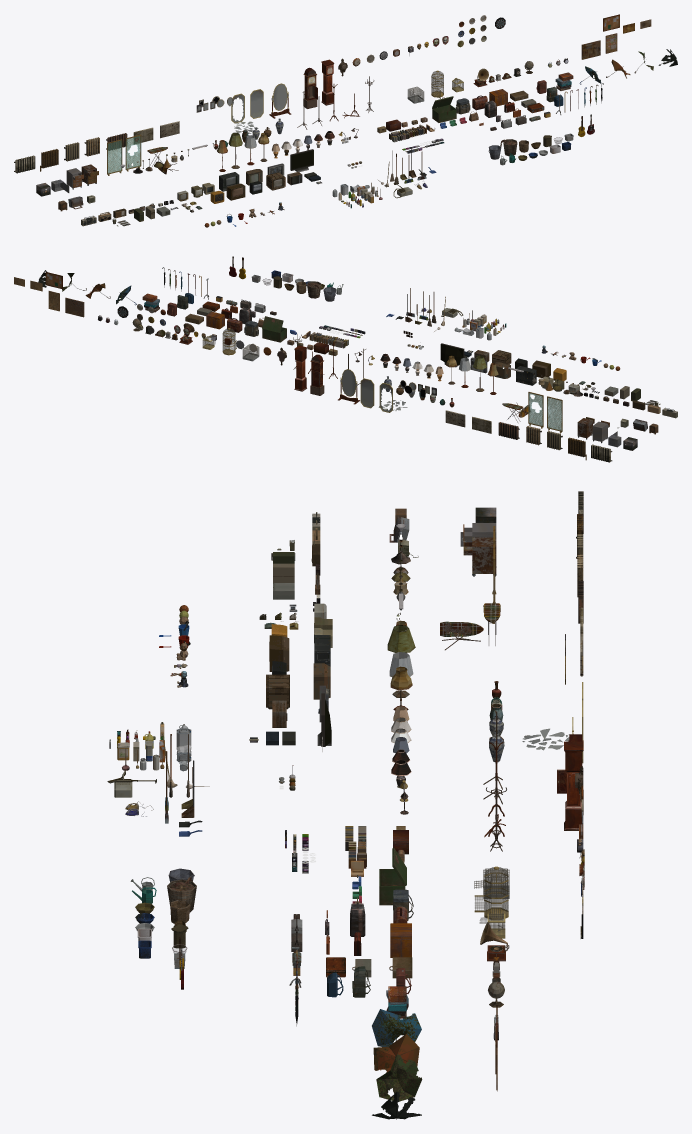
File: psx-low-poly-home-interior-props-pack.glb
3 views of the same model, one above another, from view 1: azimuth 30°, elevation 25°; view 2: azimuth 150°, elevation 25°; view 3: azimuth 270°, elevation 25° (orthographic). The views are drawn at different scales.
Visible parts, largest first — view 1: wooden_folding_screen, old_wooden_ligth_grandfather_clock, old_wooden_dark_grandfather_clock, broken_wooden_folding_screen, tv_08, wall_mirror_06, chest_05, mirror_01, wall_mirror_brk_06; view 2: wooden_folding_screen, old_wooden_dark_grandfather_clock, old_wooden_ligth_grandfather_clock, broken_wooden_folding_screen, wall_mirror_06, tv_08, mirror_01, tv_01; view 3: old_wooden_ligth_grandfather_clock, dirty_green_umbrella, dirty_blue_umbrella, chrome_large_birdcage, dirty_orange_umbrella, rusty_metal_gray_office_file_cabinet.
Boxes of the visible parts, x1,y1,x2,y2 form: wooden_folding_screen: [107, 139, 122, 175]; old_wooden_ligth_grandfather_clock: [321, 59, 334, 105]; old_wooden_dark_grandfather_clock: [303, 67, 317, 108]; broken_wooden_folding_screen: [125, 134, 141, 171]; tv_08: [290, 149, 313, 172]; wall_mirror_06: [250, 89, 263, 118]; chest_05: [432, 104, 456, 122]; mirror_01: [273, 83, 287, 110]; wall_mirror_brk_06: [231, 93, 258, 133]; wooden_folding_screen: [547, 396, 562, 433]; old_wooden_dark_grandfather_clock: [310, 354, 324, 395]; old_wooden_ligth_grandfather_clock: [294, 345, 307, 391]; broken_wooden_folding_screen: [528, 392, 543, 428]; wall_mirror_06: [360, 378, 374, 408]; tv_08: [440, 343, 464, 367]; mirror_01: [341, 369, 356, 396]; tv_01: [516, 366, 536, 385]; old_wooden_ligth_grandfather_clock: [564, 741, 583, 830]; dirty_green_umbrella: [376, 1054, 422, 1101]; dirty_blue_umbrella: [372, 1009, 421, 1046]; chrome_large_birdcage: [484, 866, 508, 919]; dirty_orange_umbrella: [373, 1034, 419, 1072]; rusty_metal_gray_office_file_cabinet: [463, 537, 496, 576].
Bounding box in the file's own units: 32.84 × 2.49 × 10.99.
180 materials, 175 textured.
